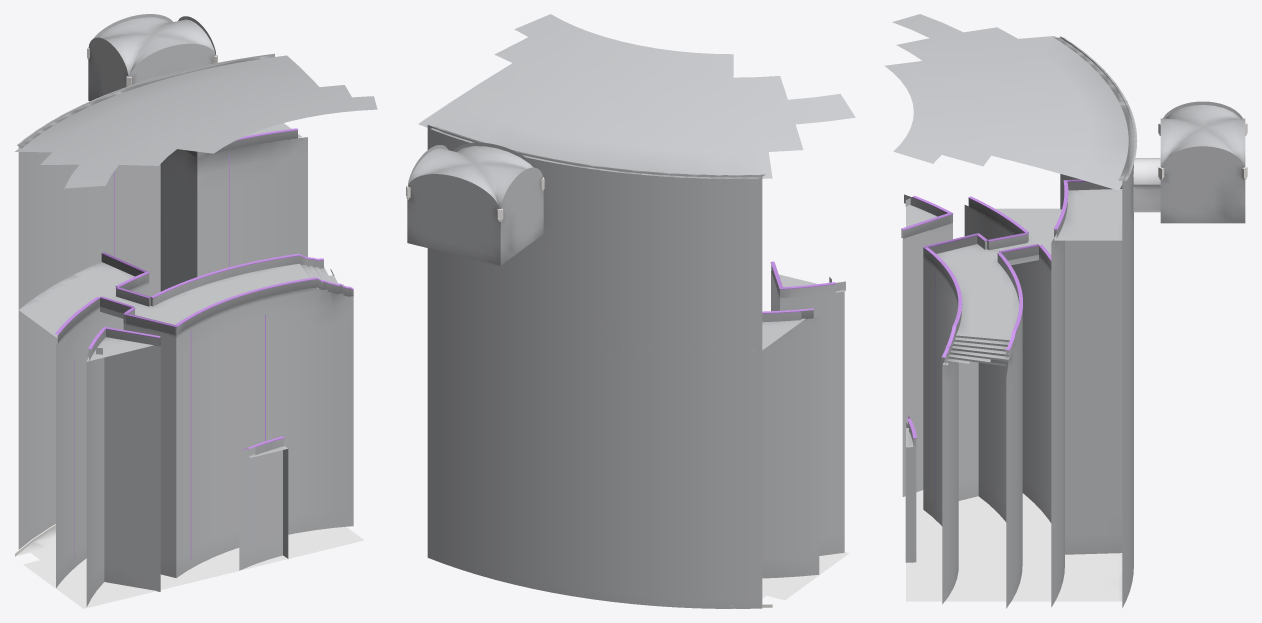
Rendered from crypt_10_ad.glb.
3 views of the same model, side by side, from view 1: azimuth 30°, elevation 25°; view 2: azimuth 150°, elevation 25°; view 3: azimuth 270°, elevation 25° (orthographic). The views are drawn at different scales.
Parts seen in each view (by area): view 1: crypt_10_ad; view 2: crypt_10_ad; view 3: crypt_10_ad.
Part boxes in pixels (<box>): crypt_10_ad: <box>14,14,377,608</box>; crypt_10_ad: <box>406,14,855,608</box>; crypt_10_ad: <box>884,14,1247,608</box>.
Bounding box in the file's own units: 36.17 × 47.21 × 34.24.
